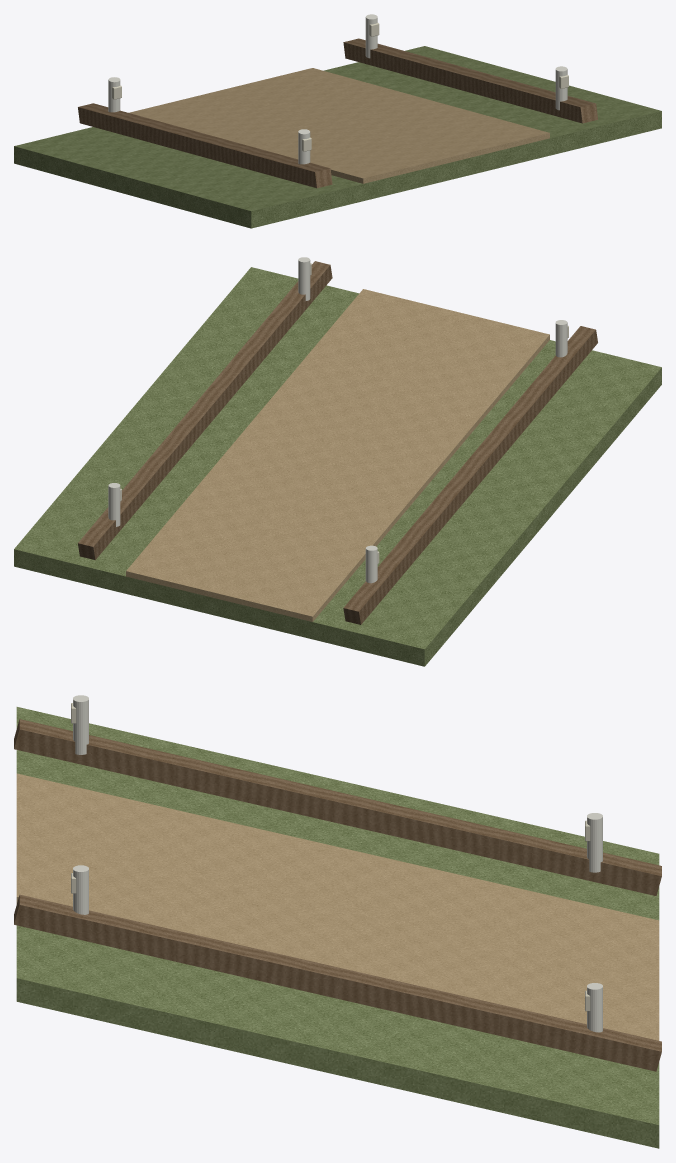
The model's file is ROAD_DIRT_SLOPE_1x1_DOWN_050.glb.
The picture shows the model from 3 angles, top to bottom: view 1: azimuth 30°, elevation 25°; view 2: azimuth 150°, elevation 25°; view 3: azimuth 270°, elevation 25°; orthographic projection. The views are drawn at different scales.
Visible parts, largest first — view 1: ROAD_DIRT_SLOPE_1x1_DOWN_050_Visual; view 2: ROAD_DIRT_SLOPE_1x1_DOWN_050_Visual; view 3: ROAD_DIRT_SLOPE_1x1_DOWN_050_Visual.
Part boxes in pixels (bbox=[...]): ROAD_DIRT_SLOPE_1x1_DOWN_050_Visual: bbox=[14, 14, 661, 228]; ROAD_DIRT_SLOPE_1x1_DOWN_050_Visual: bbox=[14, 257, 661, 666]; ROAD_DIRT_SLOPE_1x1_DOWN_050_Visual: bbox=[14, 695, 661, 1148].
Size of what is drawn, in the model's own units: 1.98 by 0.78 by 2.
Materials: 5 (3 with a texture image).
